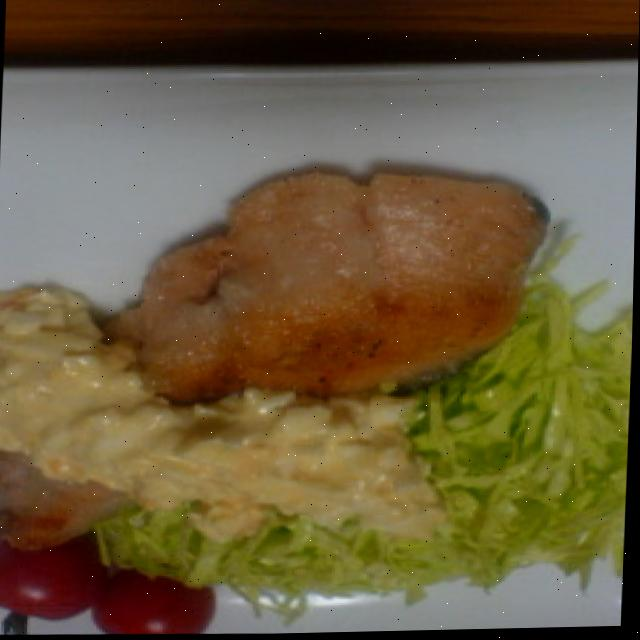熟制海鲜: (0, 162, 616, 566)
